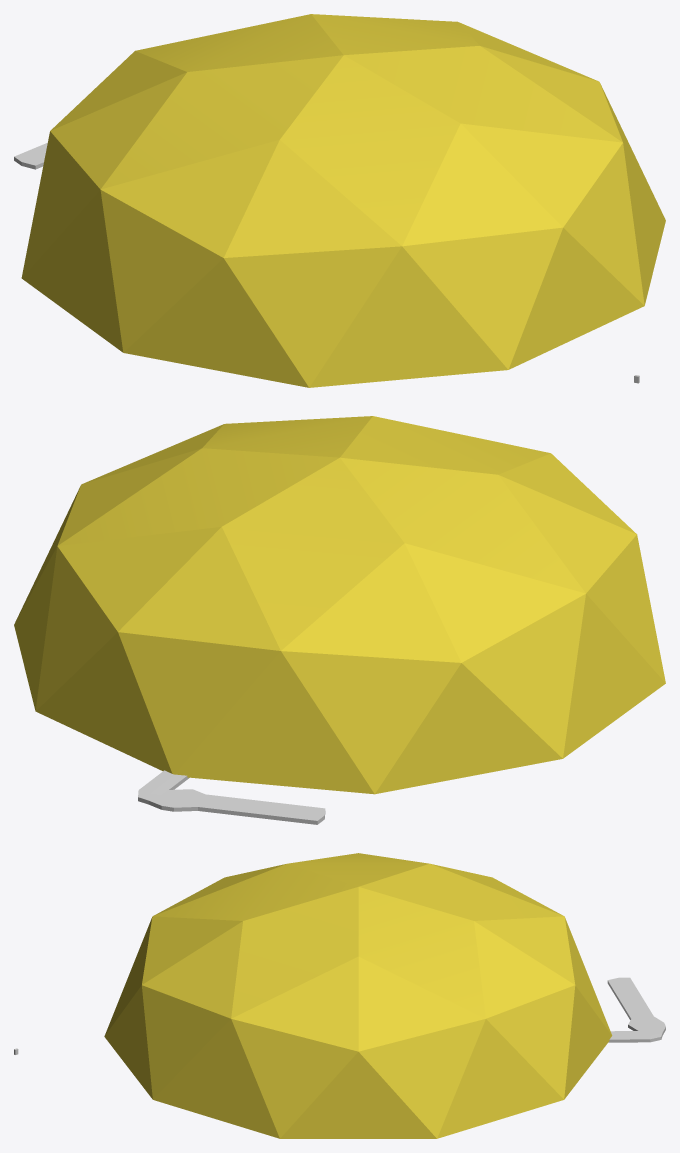
Rendered from Hangar Circular.fbx.
3 views of the same model, one above another, from view 1: azimuth 30°, elevation 25°; view 2: azimuth 150°, elevation 25°; view 3: azimuth 270°, elevation 25° (orthographic). The views are drawn at different scales.
Visible parts, largest first — view 1: Techo, Cube; view 2: Techo, Cube; view 3: Techo, Cube.
Boxes of the visible parts, <box> form: Techo: <box>21,14,665,387</box>; Cube: <box>14,143,47,169</box>; Techo: <box>14,416,665,794</box>; Cube: <box>138,770,325,824</box>; Techo: <box>104,853,612,1138</box>; Cube: <box>607,977,665,1042</box>.
Bounding box in the file's own units: 16737 × 5797 × 22567.
